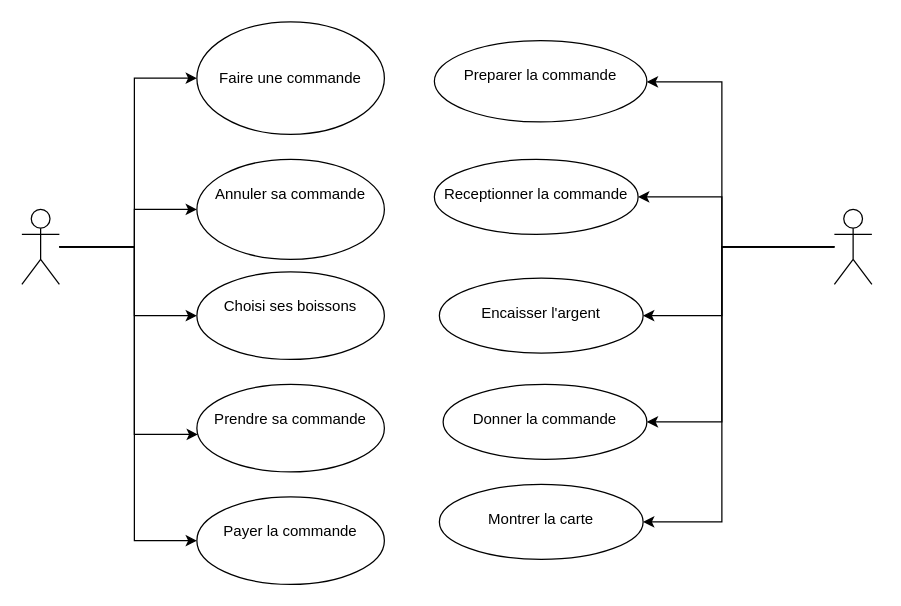
The diagram is 901 pixels wide and 606 high, and some of its shapes have lost their labels. Here are the shapes that lost their labels. From the top down, the centre of each, then its label:
point (40, 246): Client
point (852, 246): Barmen
